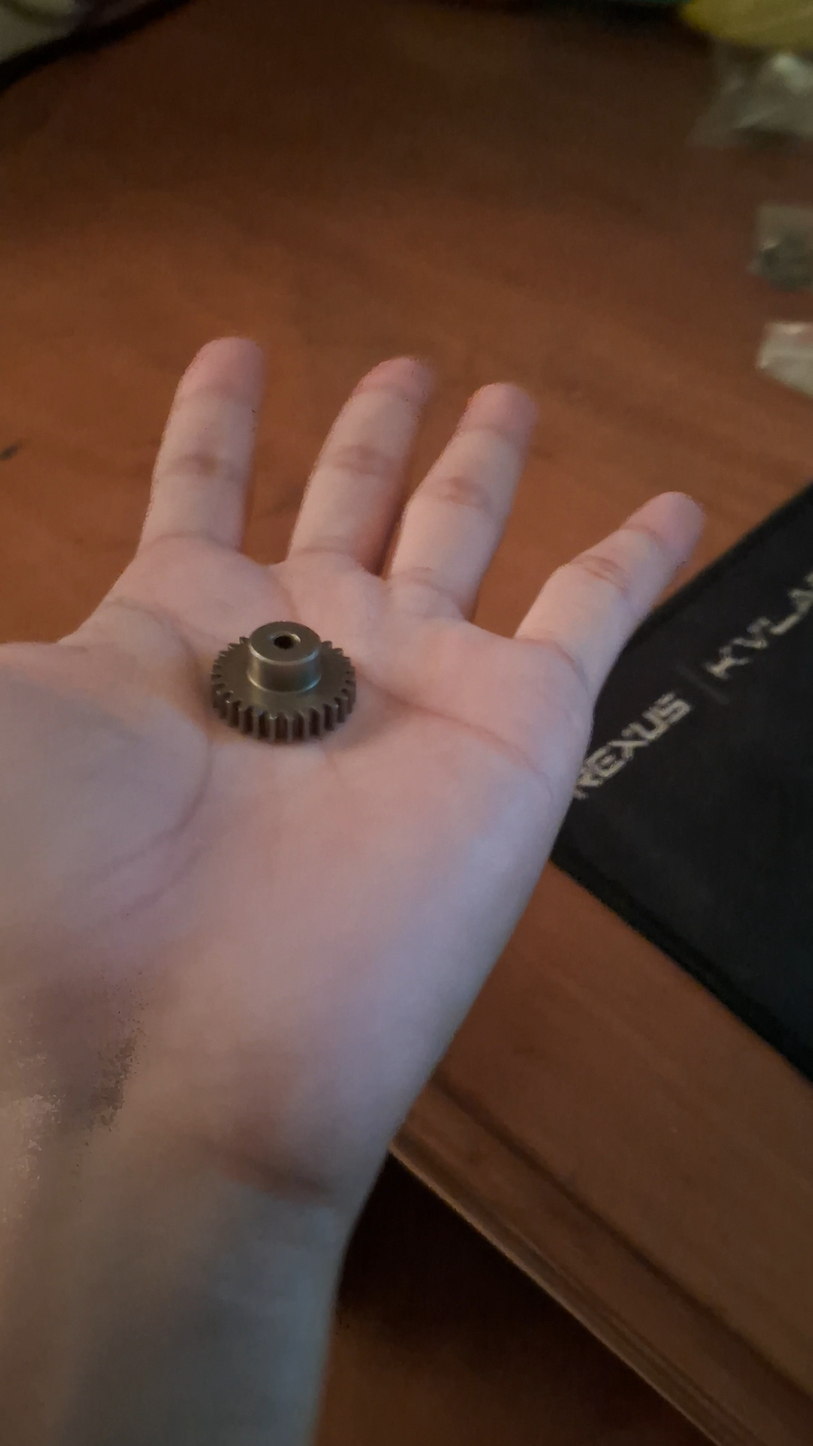spur gear: (211, 622, 355, 742)
